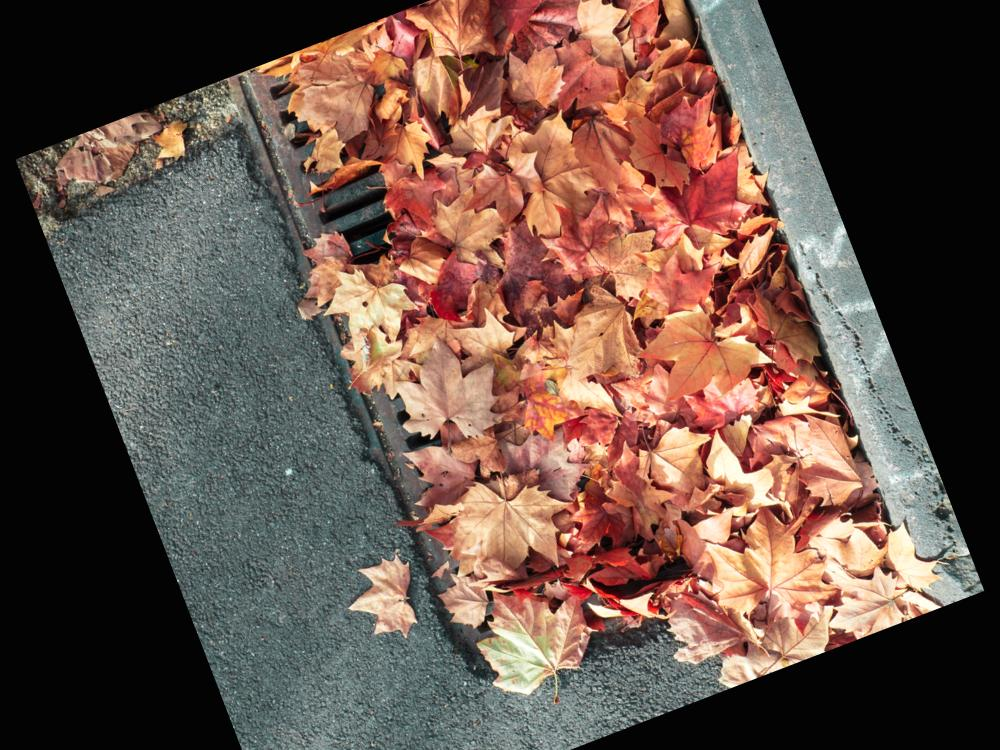Blocked drain: (236, 0, 888, 703)
Trash: (688, 0, 920, 509), (229, 68, 390, 260), (350, 392, 428, 512)
